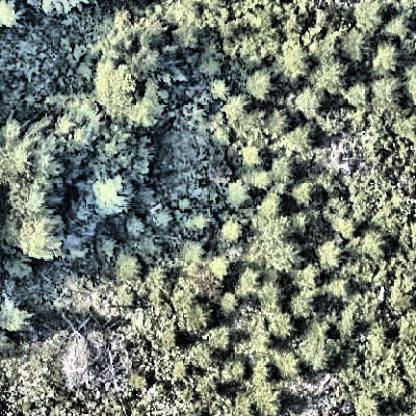tree-top: (2, 114, 74, 270), (81, 18, 184, 126), (68, 101, 162, 180), (87, 168, 143, 221), (353, 1, 397, 37), (280, 46, 316, 86), (369, 76, 407, 112), (240, 69, 274, 103), (305, 327, 335, 365), (217, 355, 248, 390), (265, 311, 300, 341), (223, 178, 257, 208), (290, 179, 325, 208), (359, 228, 392, 258), (1, 297, 28, 333), (268, 242, 299, 273), (371, 40, 401, 72), (183, 301, 213, 333), (217, 218, 251, 244), (289, 290, 318, 320), (261, 281, 290, 310), (340, 30, 366, 62), (285, 122, 313, 151), (317, 240, 343, 270)
